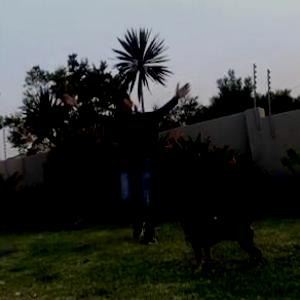takeoff: (61, 82, 191, 232)
